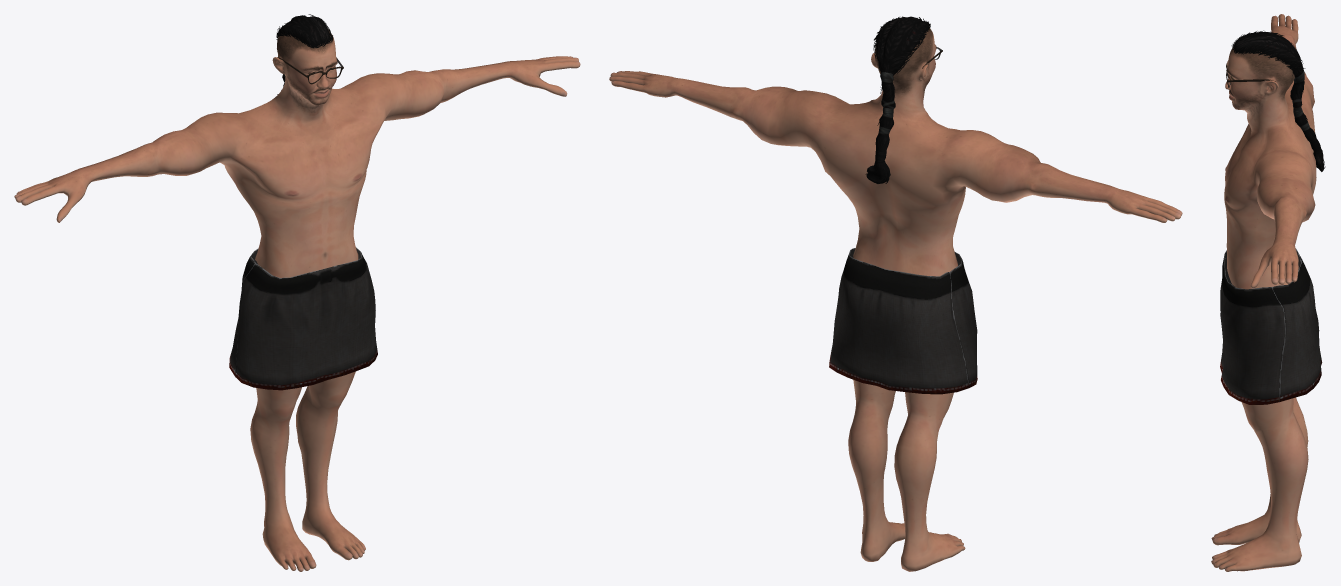
File: HasanDubl4.obj
The picture shows the model from 3 angles, left to right: view 1: azimuth 30°, elevation 25°; view 2: azimuth 150°, elevation 25°; view 3: azimuth 270°, elevation 25°; orthographic projection. The views are drawn at different scales.
Visible parts, largest first — view 1: Body, Bottoms, Hair; view 2: Body, Bottoms, Hair; view 3: Body, Bottoms, Hair.
Boxes of the visible parts, left/top/right/bottom form: Body: left=14, top=29, right=580, bottom=571; Bottoms: left=229, top=247, right=377, bottom=390; Hair: left=276, top=14, right=332, bottom=94; Body: left=609, top=28, right=1182, bottom=571; Bottoms: left=829, top=248, right=977, bottom=394; Hair: left=865, top=16, right=930, bottom=183; Body: left=1211, top=14, right=1316, bottom=571; Bottoms: left=1220, top=248, right=1322, bottom=404; Hair: left=1231, top=30, right=1325, bottom=171.
Bounding box in the file's own units: 2 × 1.79 × 0.36.
Materials: 1 (1 with a texture image).
